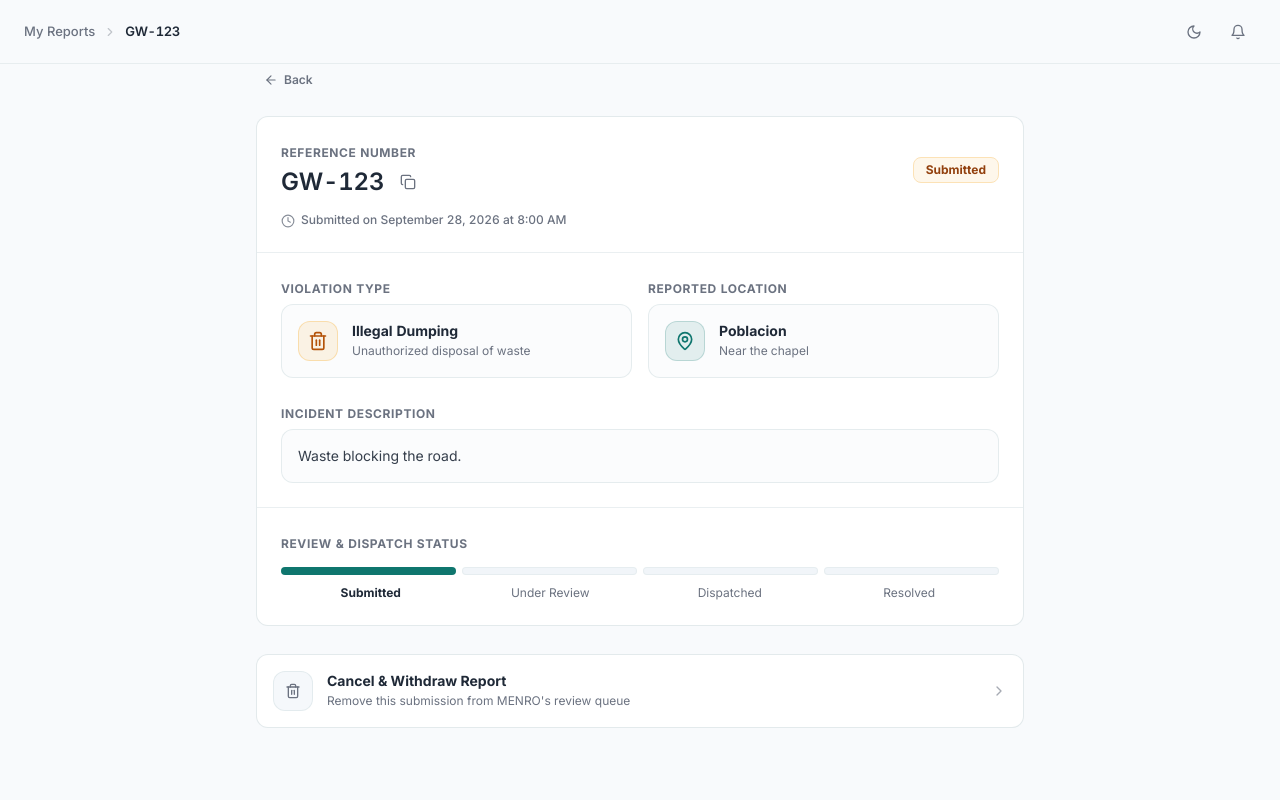
returns from report details through the topbar breadcrumb
Check: the text "GW-123" is shown, box [125,22,180,41]
Click the link with aria-label "Back to My Reports" at (60, 32), box [24,22,95,41]
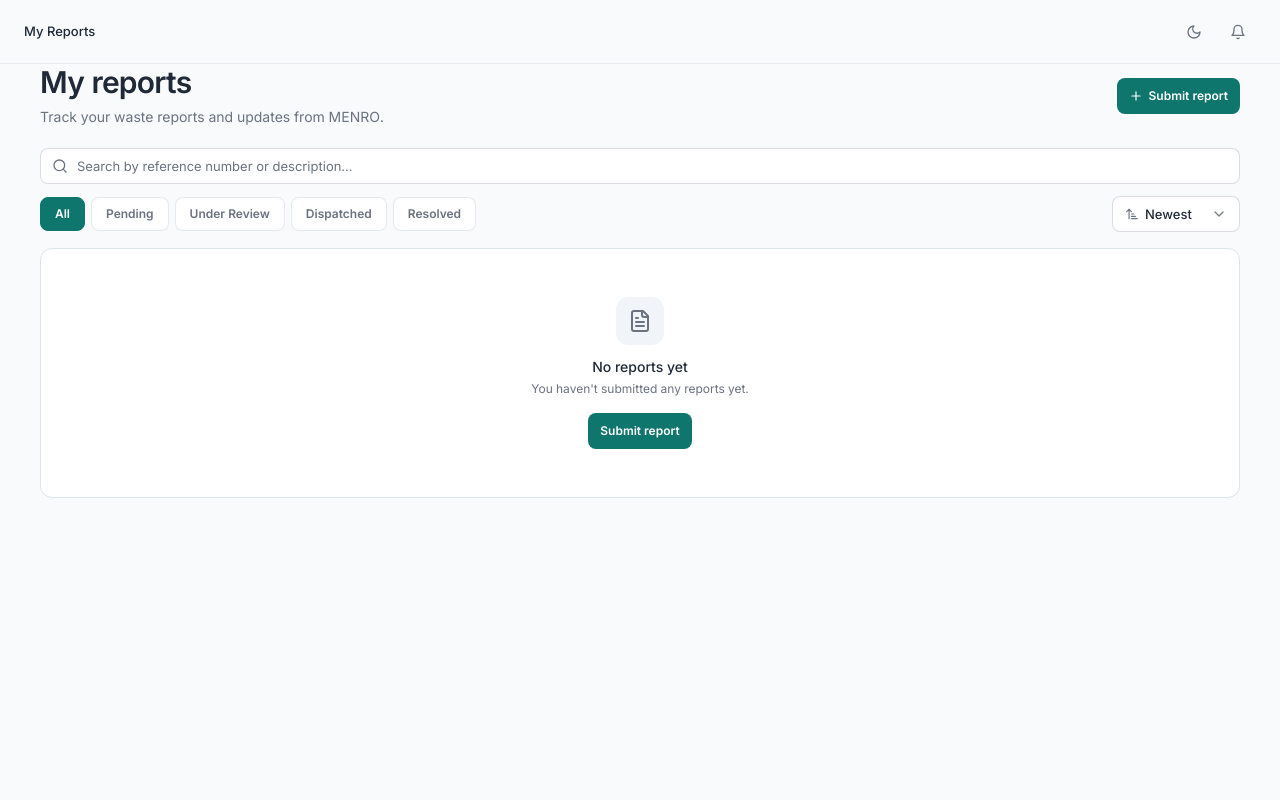
Check: the text "My Reports" is shown, box [24,22,95,41]
Check: the text "GW-123" is gone
